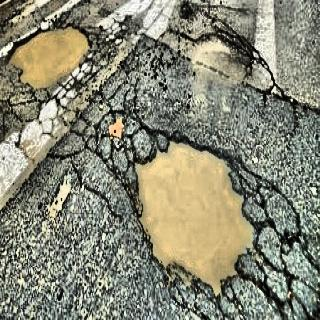alligator-crack: (38, 12, 148, 194), (238, 168, 316, 320)
pothole: (128, 128, 255, 285), (164, 17, 286, 108), (5, 18, 91, 95)
